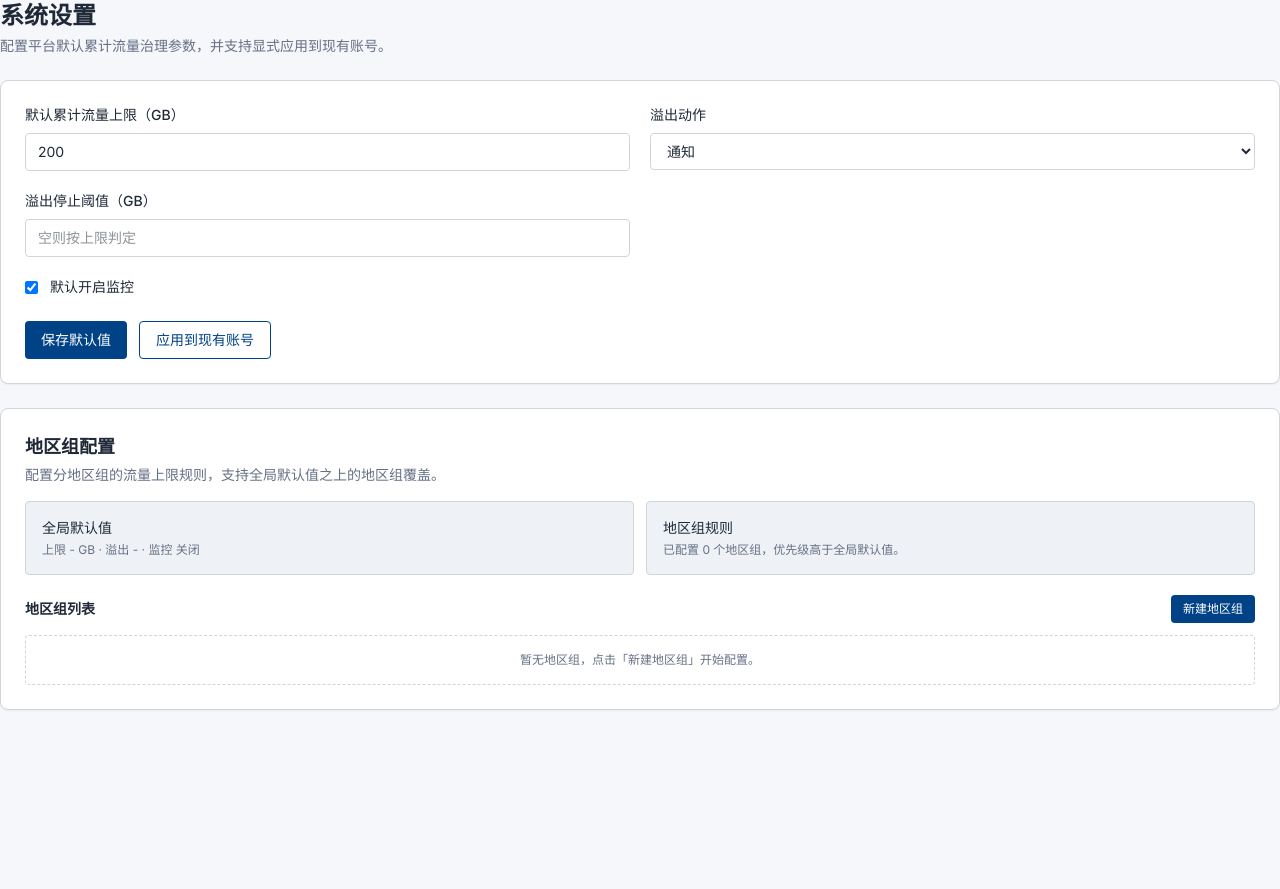
Scenario: SettingsPage region group section › opens the editor in create mode when 新建地区组 clicked
Click the button "新建地区组": (1213, 609) [1171, 595, 1255, 623]
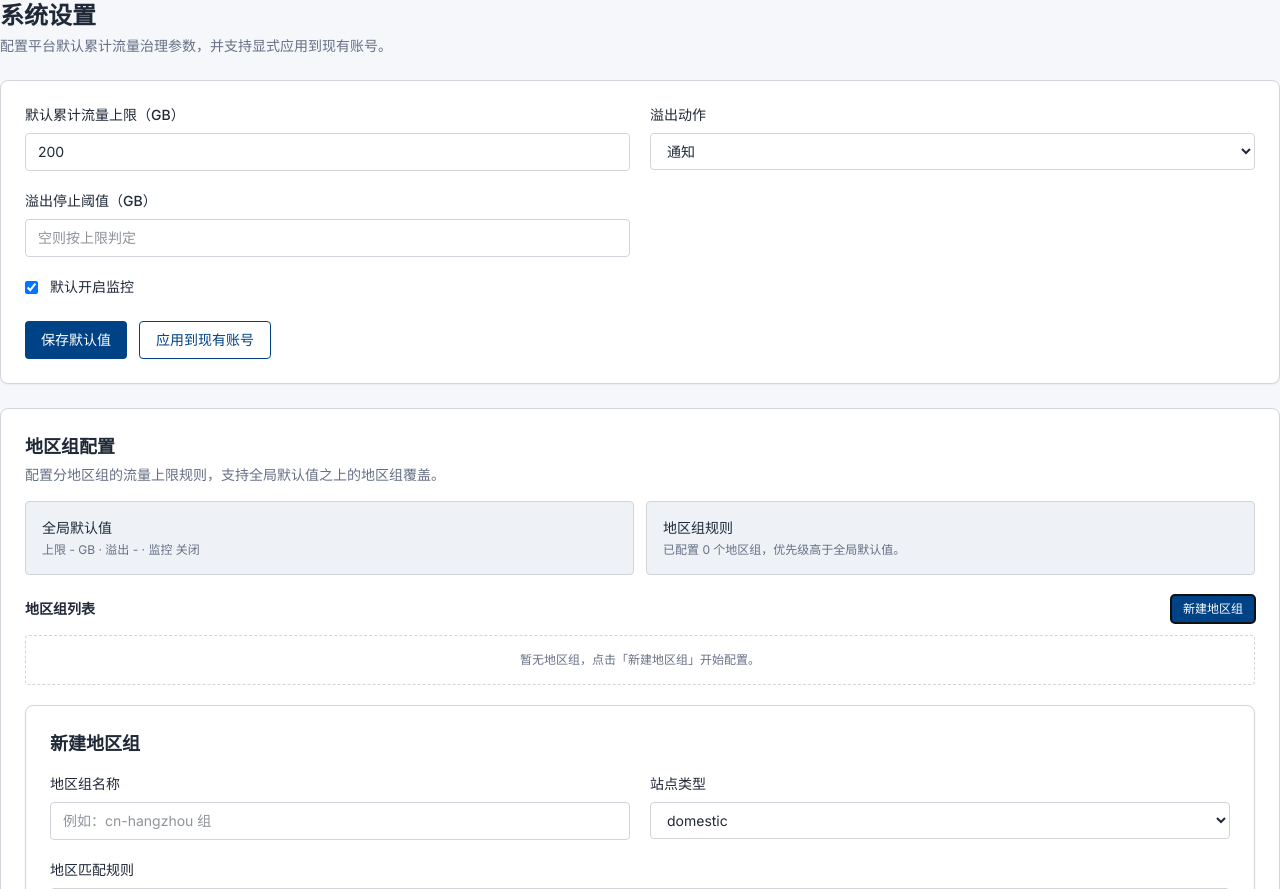
Expected: the heading "新建地区组" is shown, [50, 732, 140, 755]
Expected: the field with placeholder "例如：cn-hangzhou 组" is shown, [50, 802, 630, 840]
